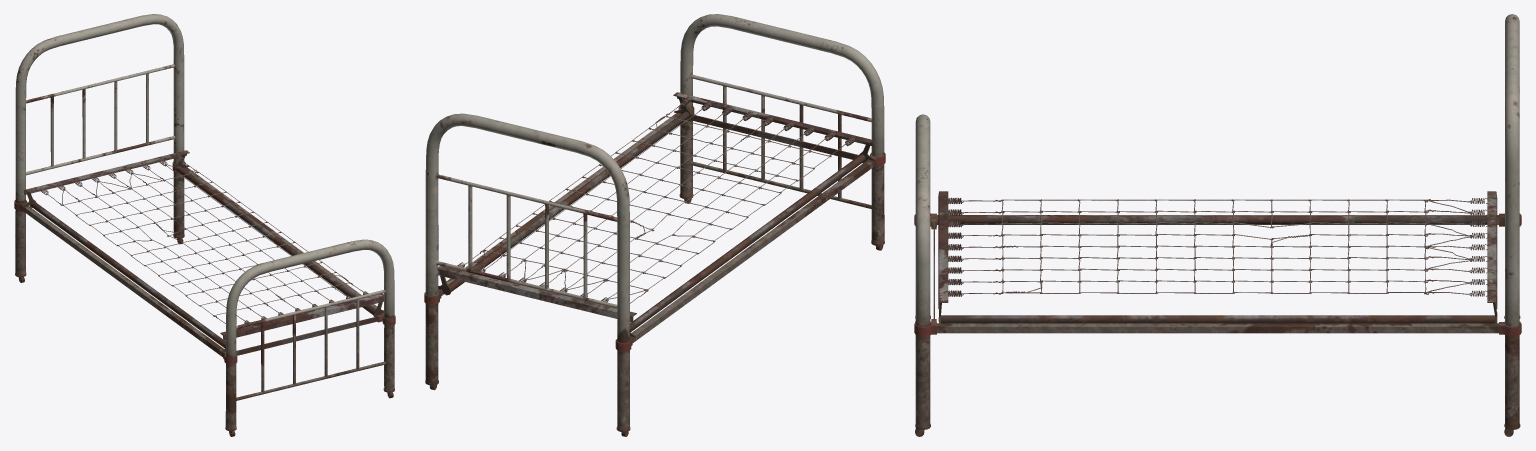
Rendered from bed_frame.glb.
The picture shows the model from 3 angles, left to right: view 1: azimuth 30°, elevation 25°; view 2: azimuth 150°, elevation 25°; view 3: azimuth 270°, elevation 25°; orthographic projection. The views are drawn at different scales.
Parts seen in each view (by area): view 1: old_bed_frame; view 2: old_bed_frame; view 3: old_bed_frame.
Boxes of the visible parts, box(x1,y1,x2,y2) form: old_bed_frame: box(14, 14, 395, 436); old_bed_frame: box(424, 14, 885, 436); old_bed_frame: box(914, 14, 1521, 436).
Size of the model in its own units: 0.9046 by 1.2 by 2.
Materials: 1 (1 with a texture image).
